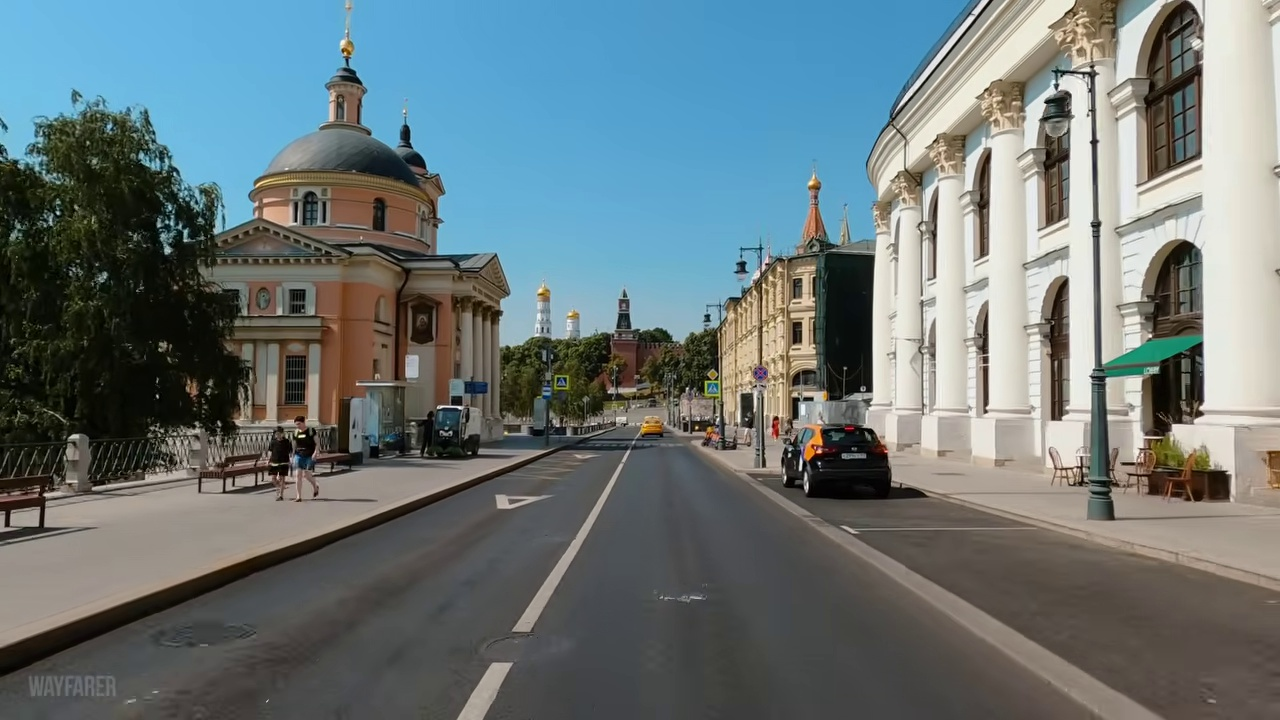apagada: (1034, 96, 1073, 139), (728, 258, 751, 280)
